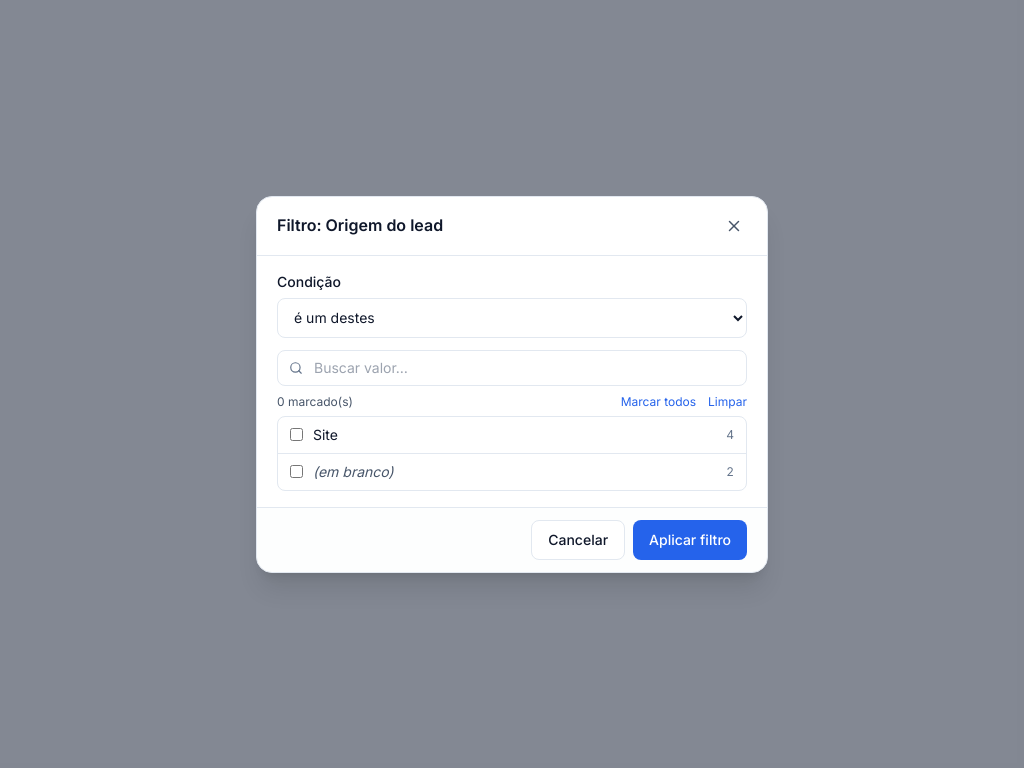
it: editor de filtro › não aplica sem valor marcado
Check: the text "Site" is shown, box [313,426,338,442]
Click the button "Aplicar filtro".
click(690, 540)  # box [633,520,747,560]
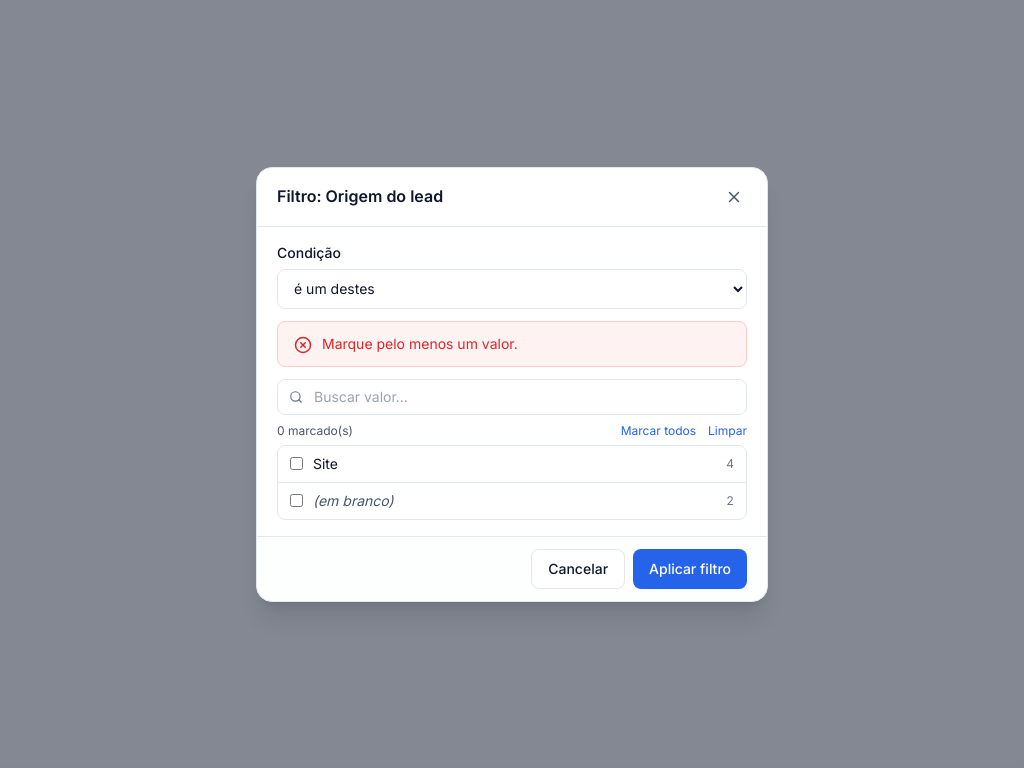
Check: the text "Marque pelo menos um valor." is shown, box [322,334,518,352]
